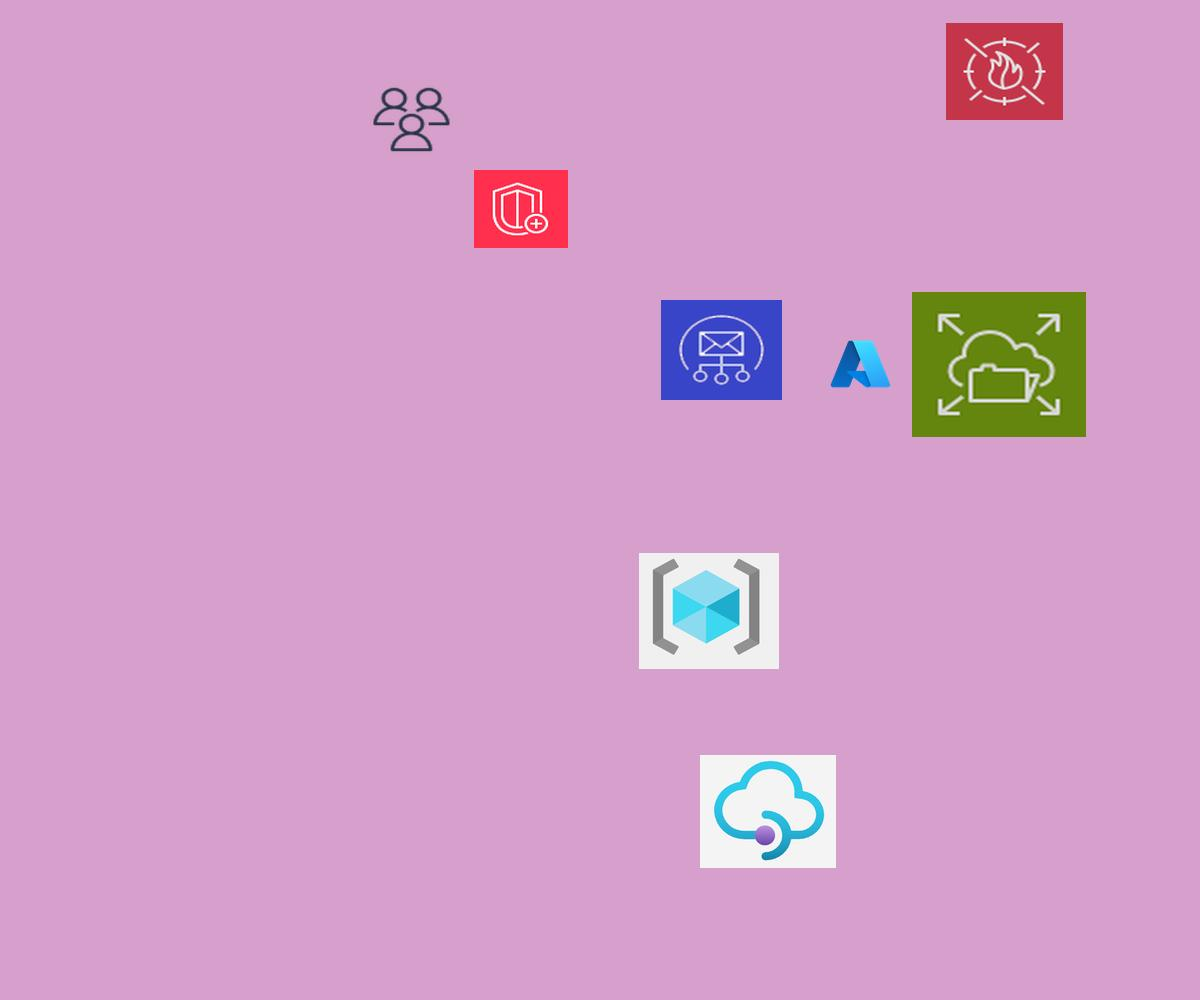AWS-EFS: (912, 292, 1086, 437)
AWS-Res_Users: (370, 85, 453, 154)
AWS-Shield: (474, 170, 568, 248)
AWS-Simple-Email-Service: (661, 300, 782, 400)
AWS-WAF: (946, 23, 1063, 120)
Azure_api_gateway: (700, 755, 836, 868)
Azure_resource_group: (639, 553, 779, 669)
Azure_services: (828, 337, 893, 391)
